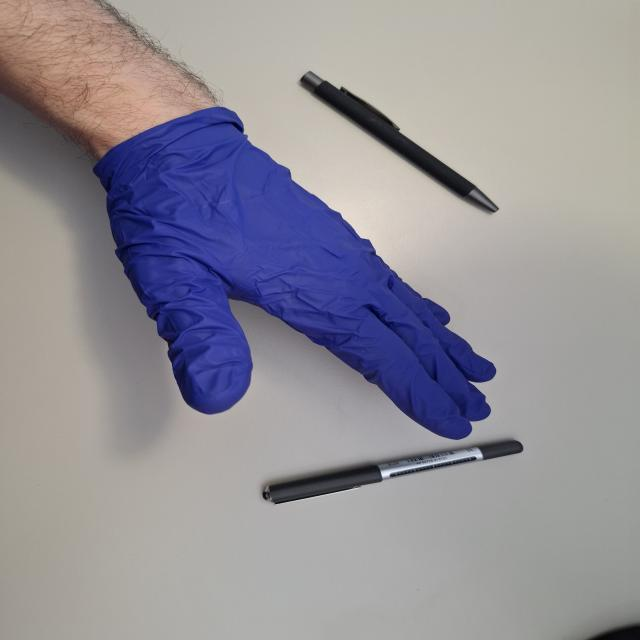glove_on: (88, 100, 500, 442)
